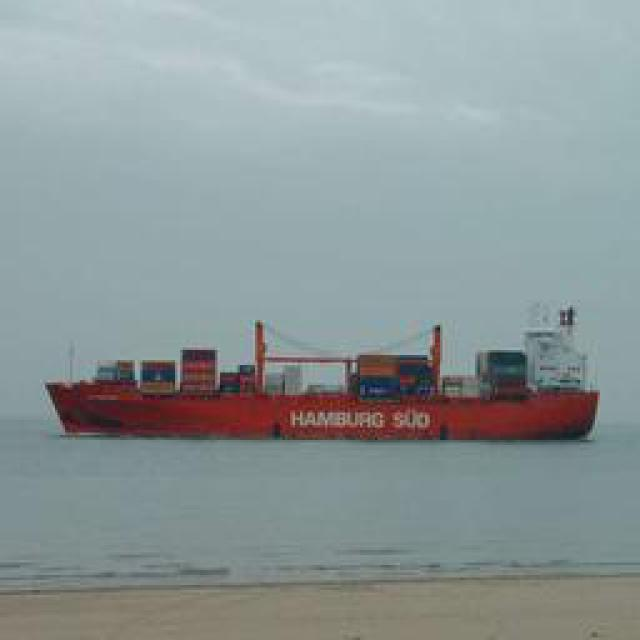Ship: (45, 306, 600, 446)
